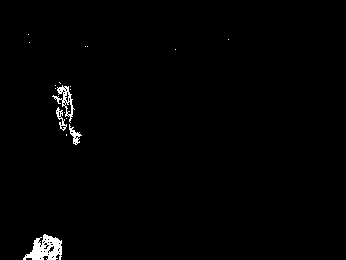person: (53, 83, 81, 148)
